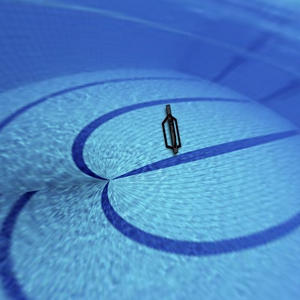submarine: (154, 98, 190, 158)
